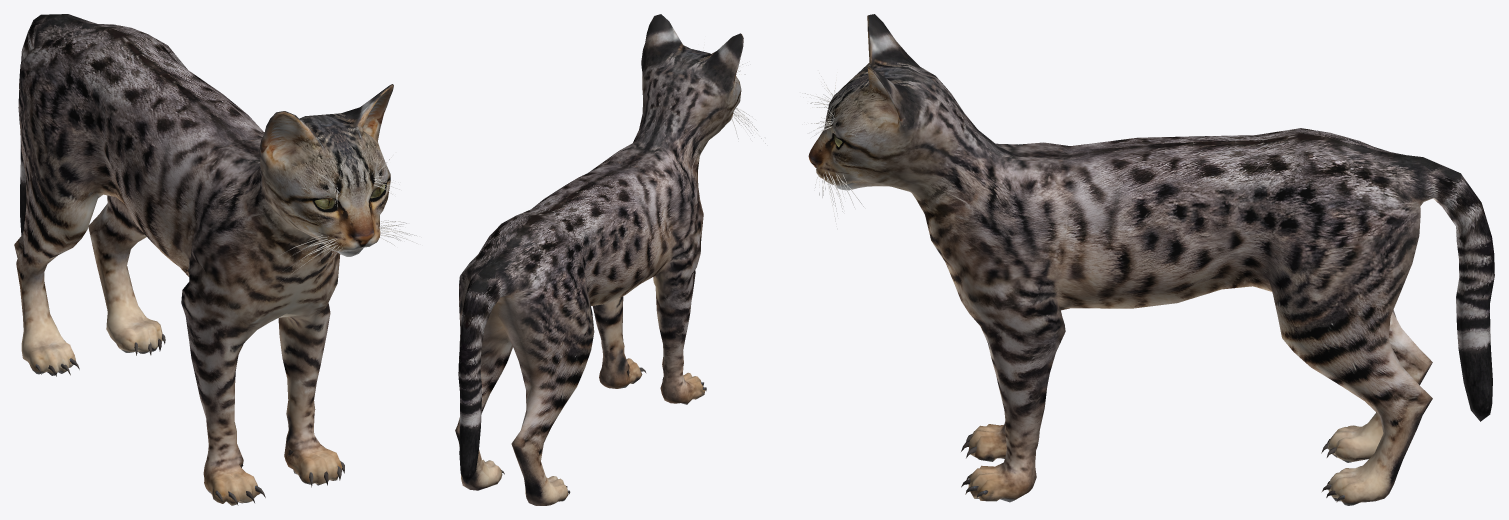
File: cat.glb
The picture shows the model from 3 angles, left to right: view 1: azimuth 30°, elevation 25°; view 2: azimuth 150°, elevation 25°; view 3: azimuth 270°, elevation 25°; orthographic projection. The views are drawn at different scales.
Parts seen in each view (by area): view 1: sm_1_0_0_1; view 2: sm_1_0_0_1; view 3: sm_1_0_0_1.
Part boxes in pixels (left/top/right/bottom): sm_1_0_0_1: left=14, top=14, right=417, bottom=505; sm_1_0_0_1: left=455, top=14, right=765, bottom=505; sm_1_0_0_1: left=802, top=14, right=1494, bottom=505.
Size of the model in its own units: 0.1504 by 0.4269 by 0.6157.
Materials: 2 (2 with a texture image).
